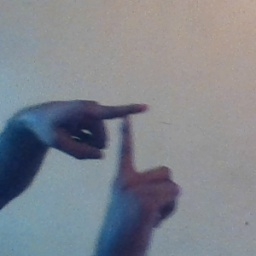T: (83, 89, 166, 194)
